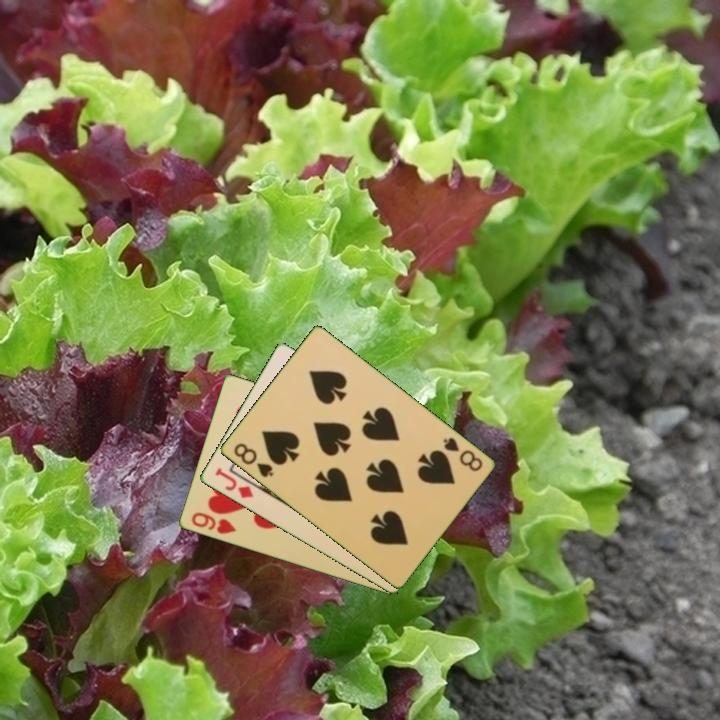8s: (230, 439, 276, 480), (439, 434, 485, 475)
9h: (187, 509, 238, 537)
Jd: (211, 464, 256, 501)
